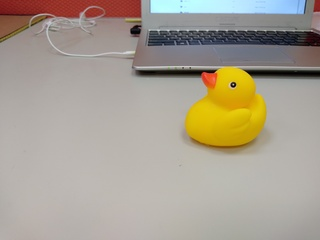duck: (181, 64, 277, 156)
